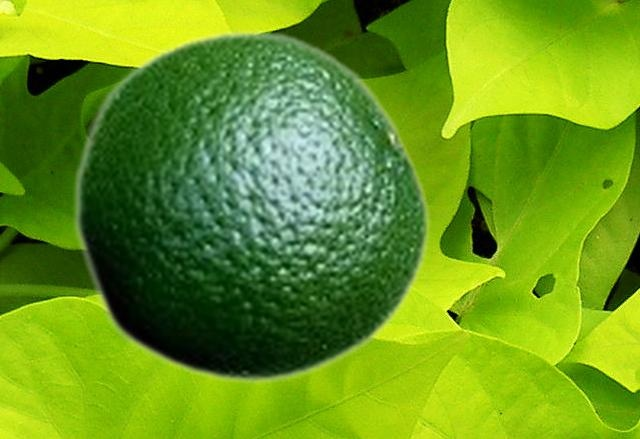calamansi: (71, 28, 431, 385)
